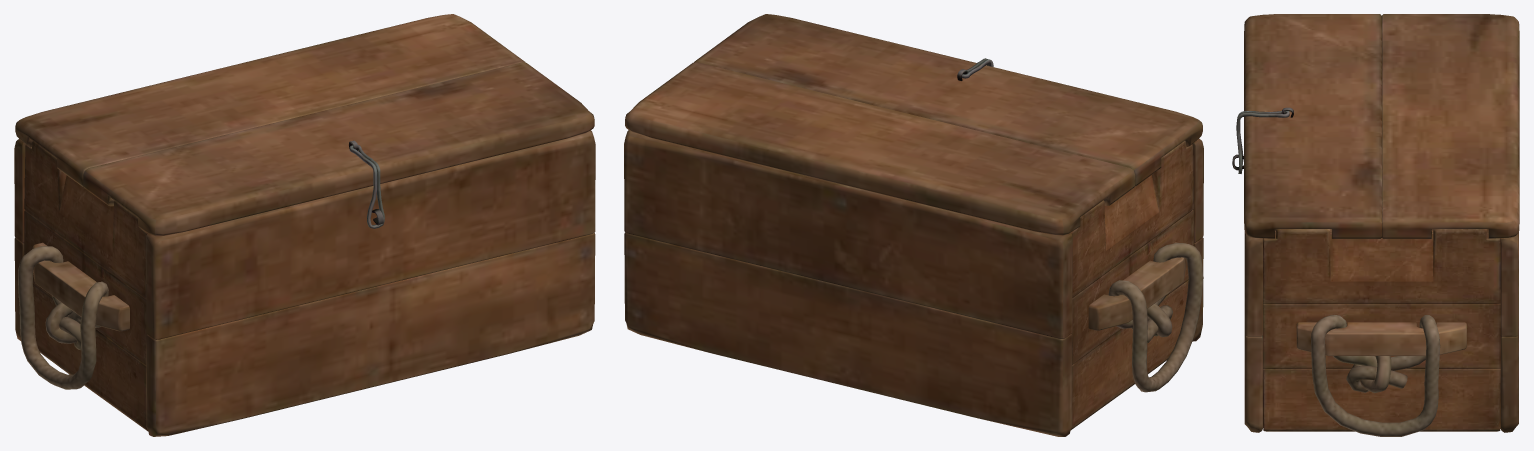
Rendered from wooden_crate_01.glb.
The picture shows the model from 3 angles, left to right: view 1: azimuth 30°, elevation 25°; view 2: azimuth 150°, elevation 25°; view 3: azimuth 270°, elevation 25°; orthographic projection. The views are drawn at different scales.
Parts seen in each view (by area): view 1: wooden_crate_01_lid; view 2: wooden_crate_01_lid; view 3: wooden_crate_01_lid.
Part boxes in pixels (box(x1,y1,x2,y2)): wooden_crate_01_lid: box(14, 14, 595, 436); wooden_crate_01_lid: box(624, 14, 1203, 436); wooden_crate_01_lid: box(1232, 14, 1519, 436).
Bounding box in the file's own units: 0.8253 × 0.3496 × 0.4089.
Materials: 1 (1 with a texture image).
